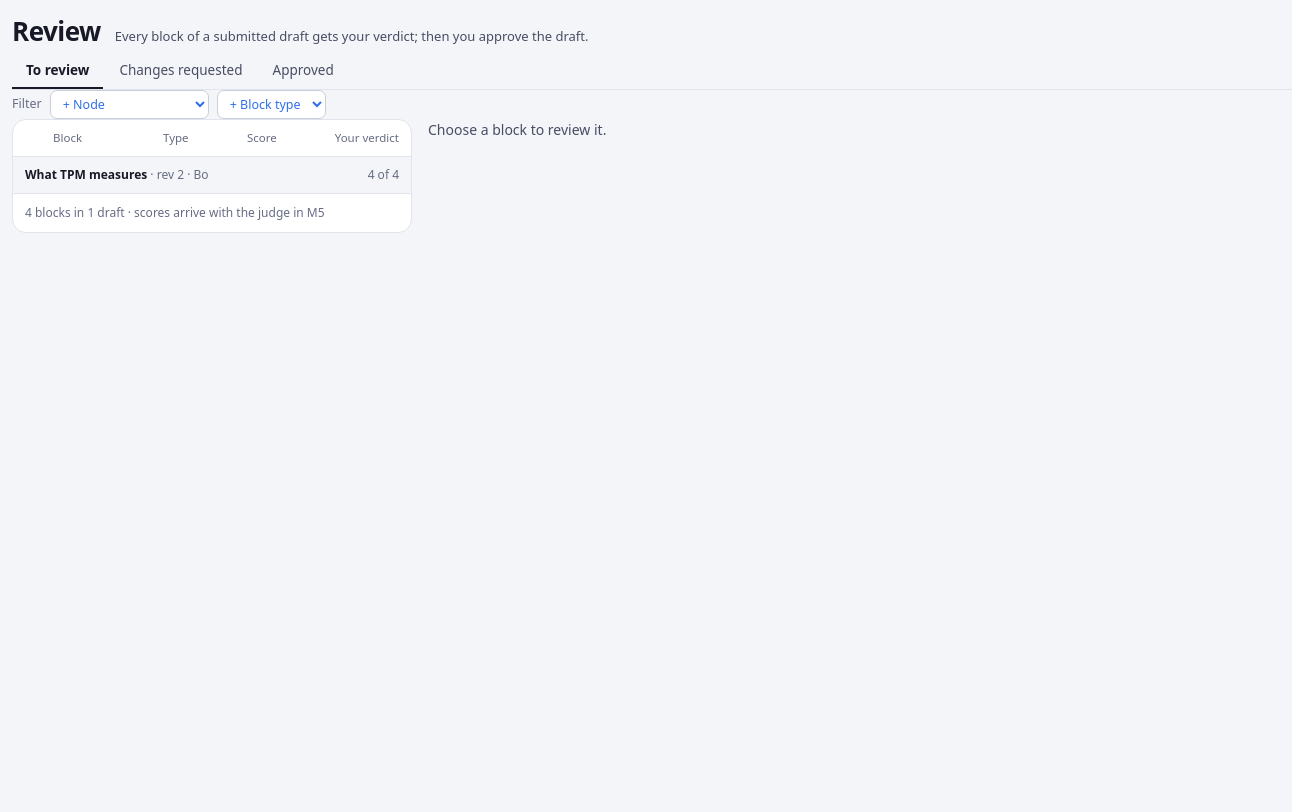
ReviewPage — verdicts › approves the draft once every block is, and it leaves the queue
Click the tab "Approved". click: (303, 70)
box: [258,51,348,89]
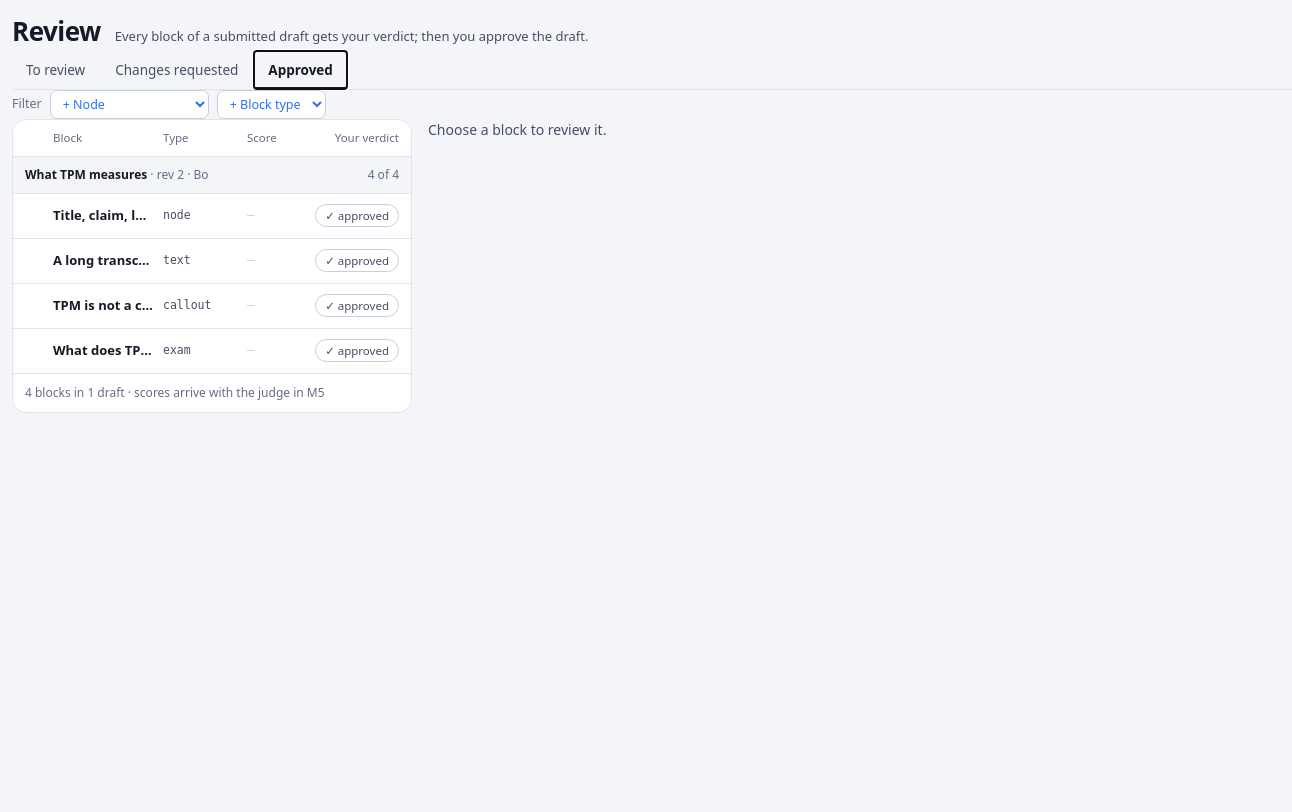
Click the button "Title, claim, level, links". click: (103, 216)
box: [53,194,153,238]
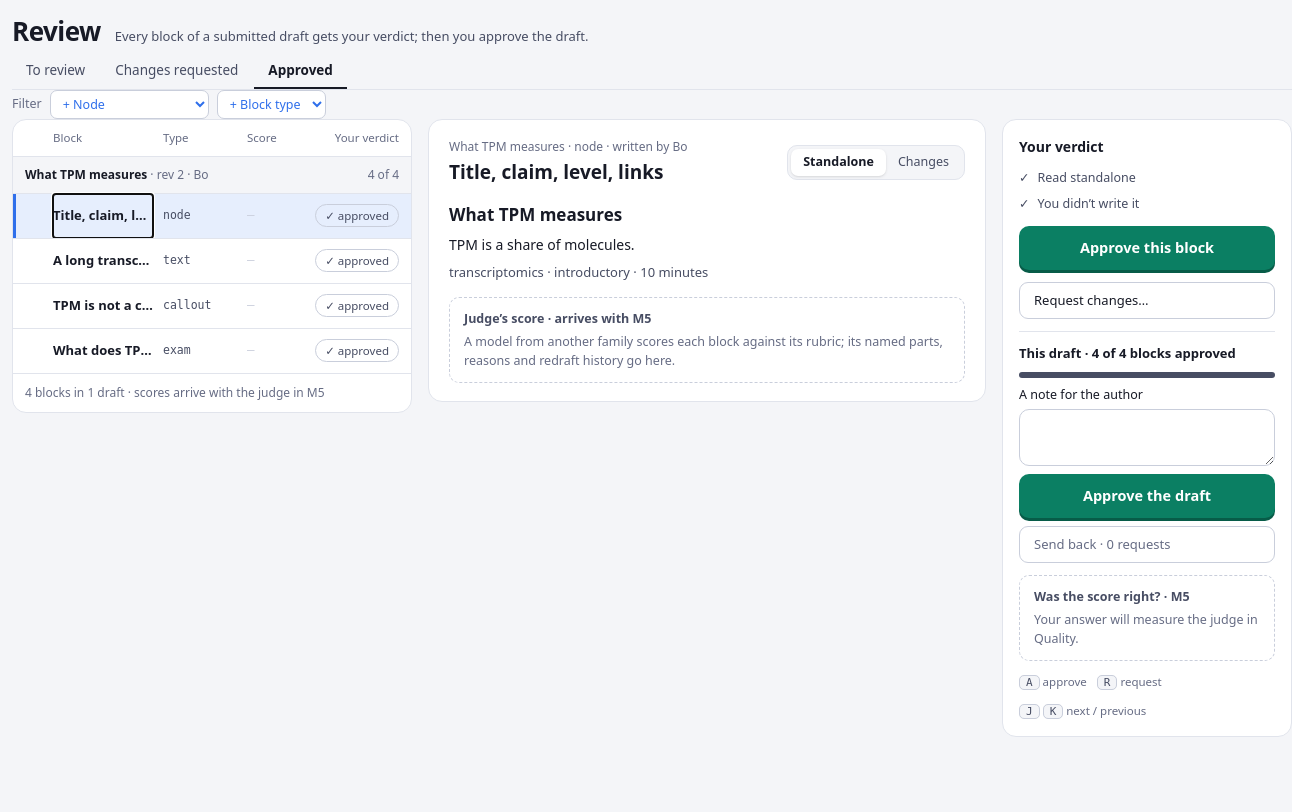
Click the button "Approve the draft". click: (1147, 496)
box: [1019,474,1275,518]
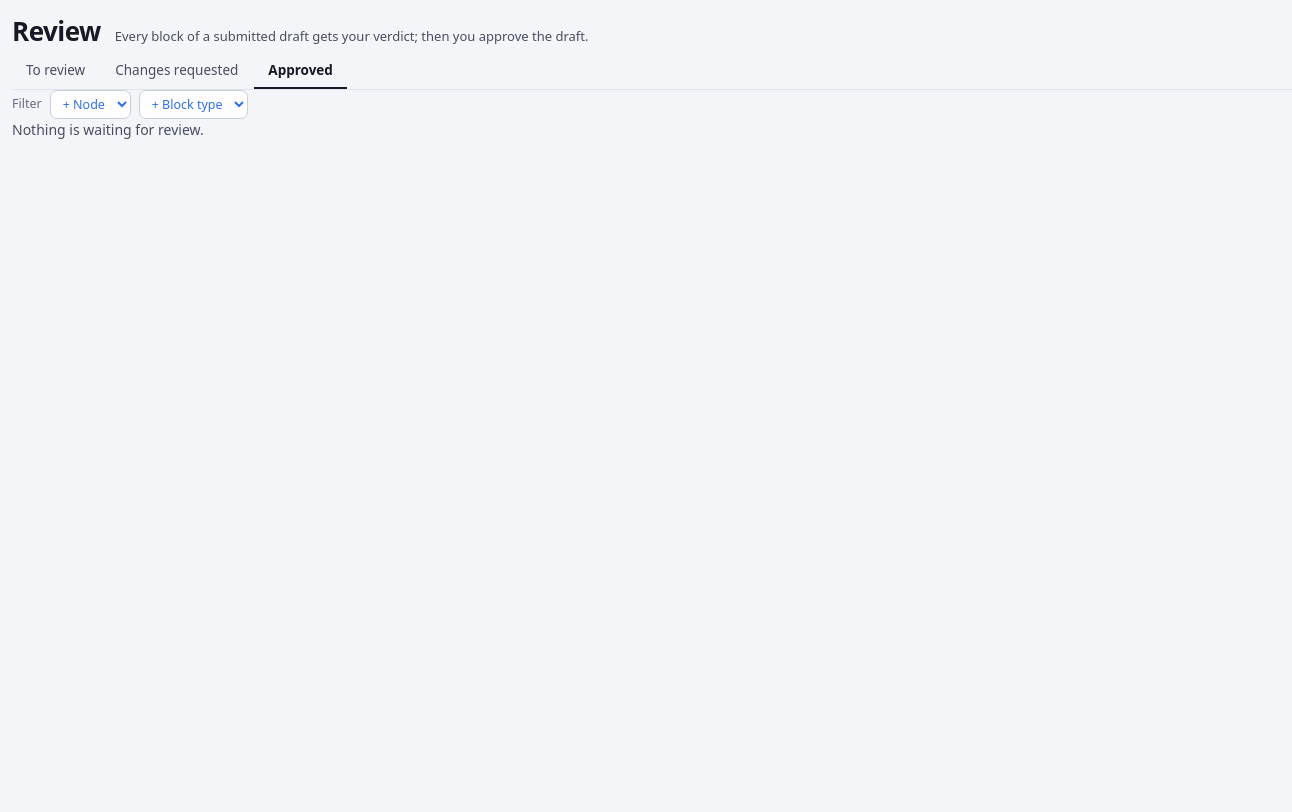
Result: the text "Nothing is waiting for review." is shown at [12,120,204,139]
